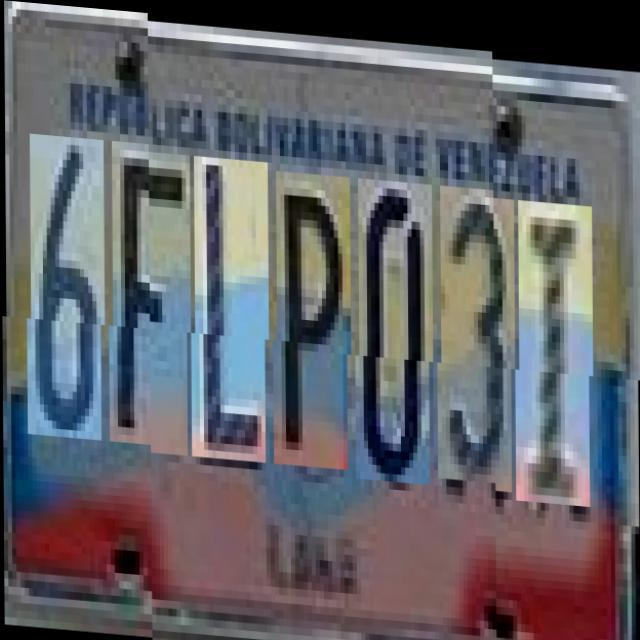0: (358, 172, 433, 478)
3: (440, 178, 516, 476)
6: (29, 140, 105, 447)
F: (111, 146, 191, 452)
I: (518, 182, 594, 488)
L: (193, 152, 269, 458)
P: (276, 166, 352, 464)
